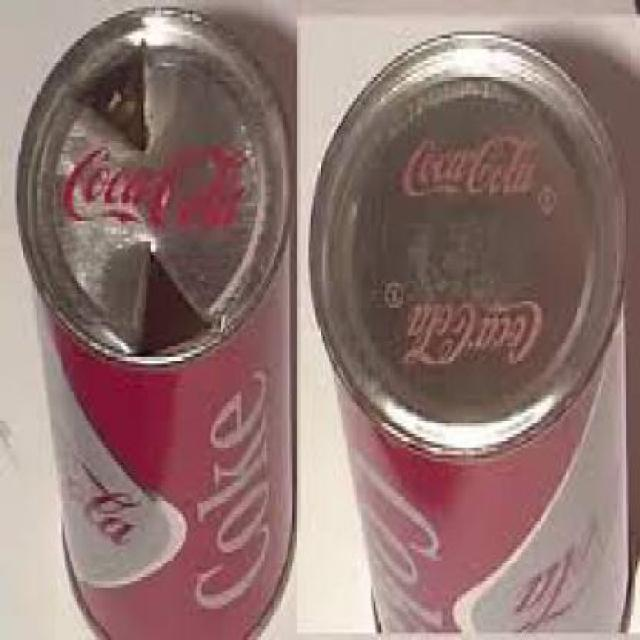metal: (305, 28, 629, 636), (14, 3, 292, 636)
